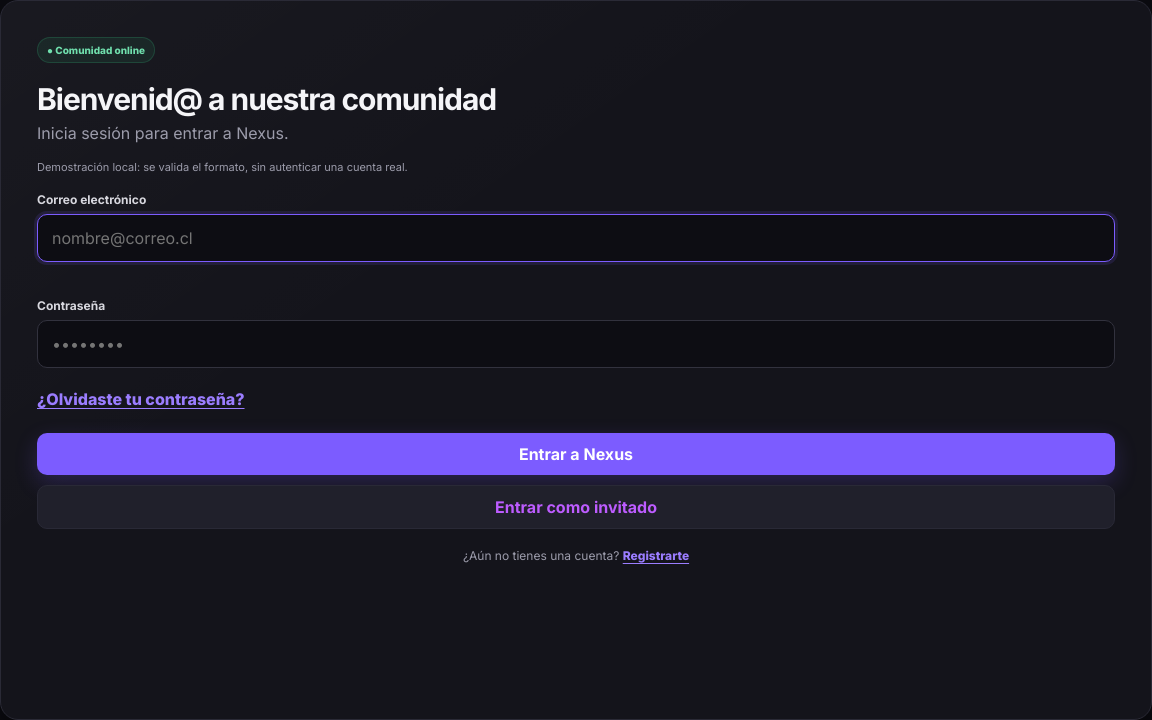
Test: Componente LoginForm › explica la limitación de recuperación de contraseña
The image size is (1152, 720).
Click the button "¿Olvidaste tu contraseña?": (141, 399) [37,389,244,409]
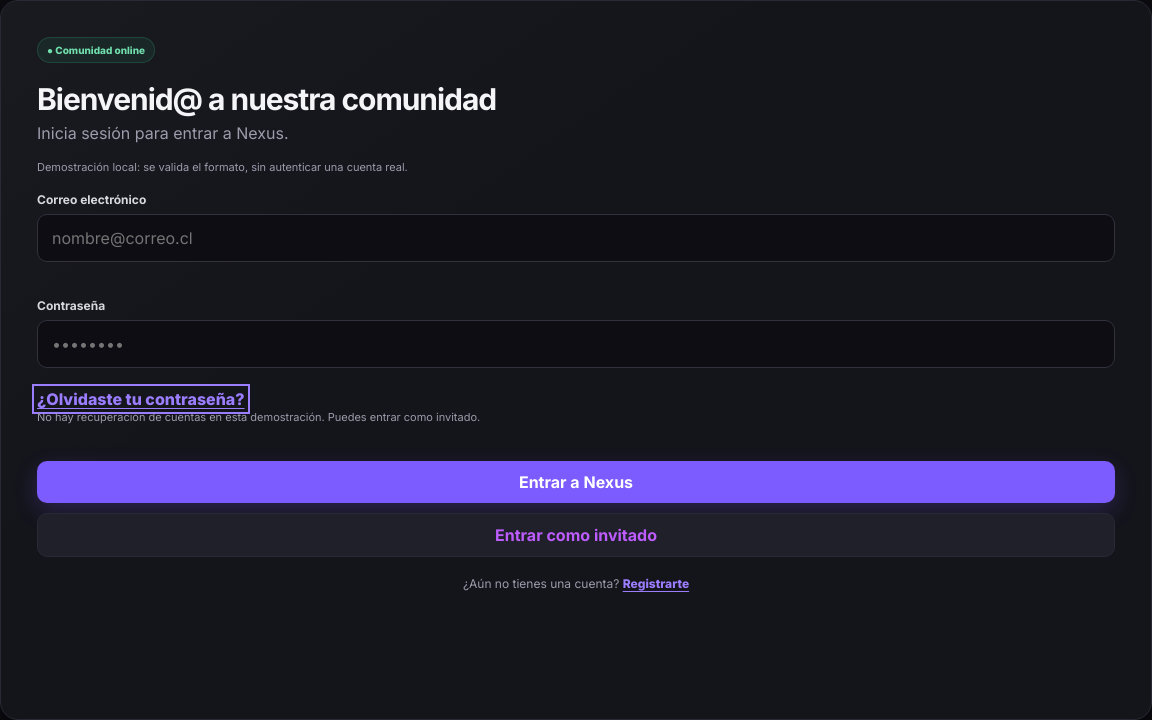
Result: the text "No hay recuperación" is shown at [37,410,480,424]
